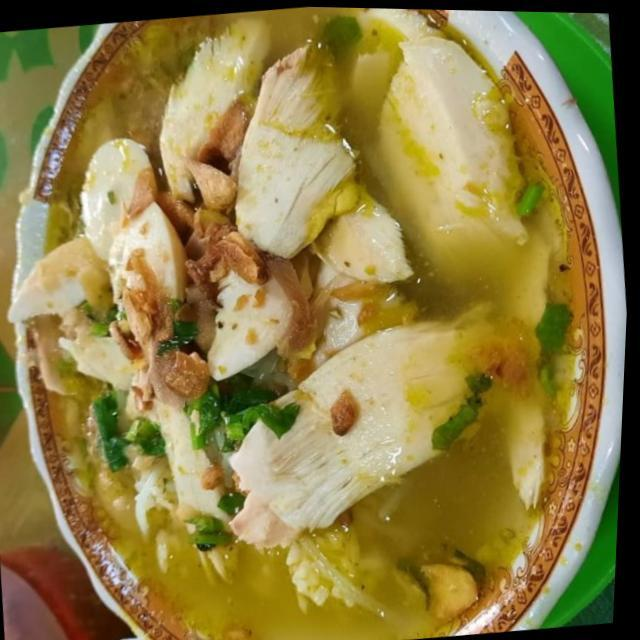Soto: (11, 28, 598, 625)
